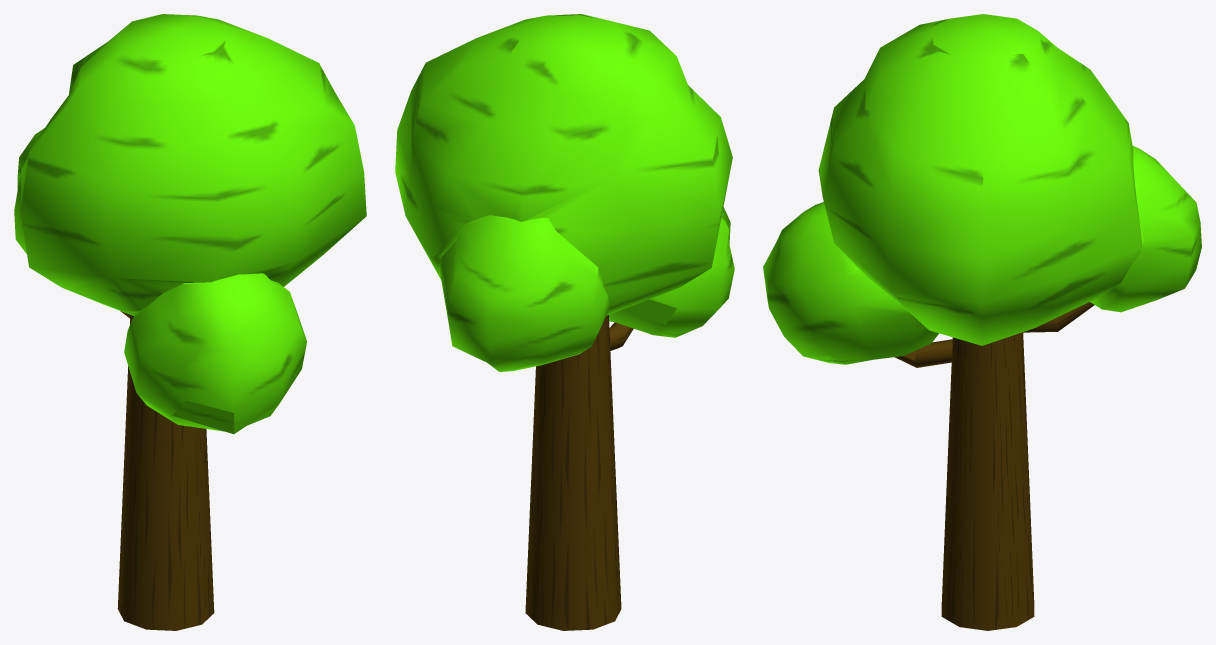
Rendered from Arbol2_v2.fbx.
The picture shows the model from 3 angles, left to right: view 1: azimuth 30°, elevation 25°; view 2: azimuth 150°, elevation 25°; view 3: azimuth 270°, elevation 25°; orthographic projection.
Parts seen in each view (by area): view 1: polySurface24; view 2: polySurface24; view 3: polySurface24.
Boxes of the visible parts, box(x1,y1,x2,y2) form: polySurface24: box(14, 14, 366, 630); polySurface24: box(395, 14, 734, 630); polySurface24: box(763, 14, 1201, 630).
Bounding box in the file's own units: 5.34 × 9.03 × 6.16.
